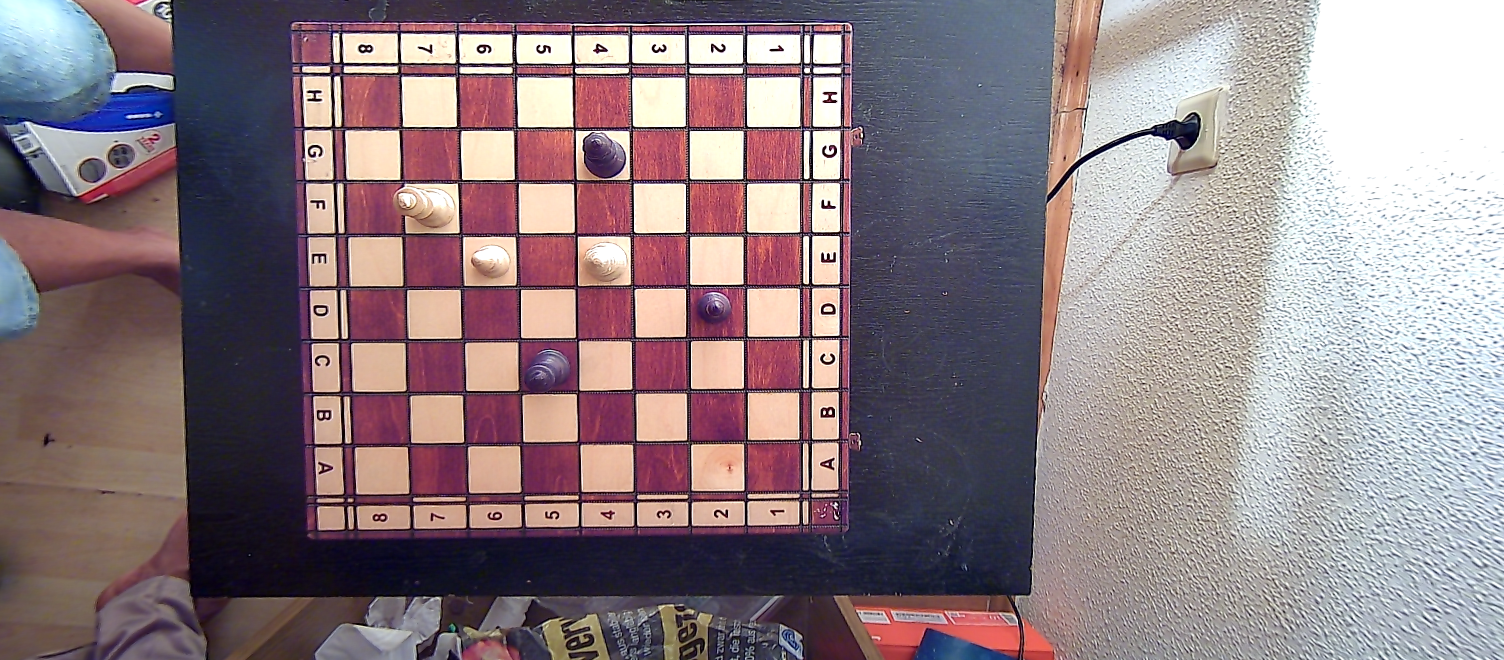black-bishop: (696, 288, 733, 326)
black-king: (524, 346, 572, 392)
black-queen: (580, 129, 626, 178)
white-bishop: (471, 244, 512, 282)
white-king: (393, 182, 455, 231)
white-queen: (581, 241, 631, 283)
